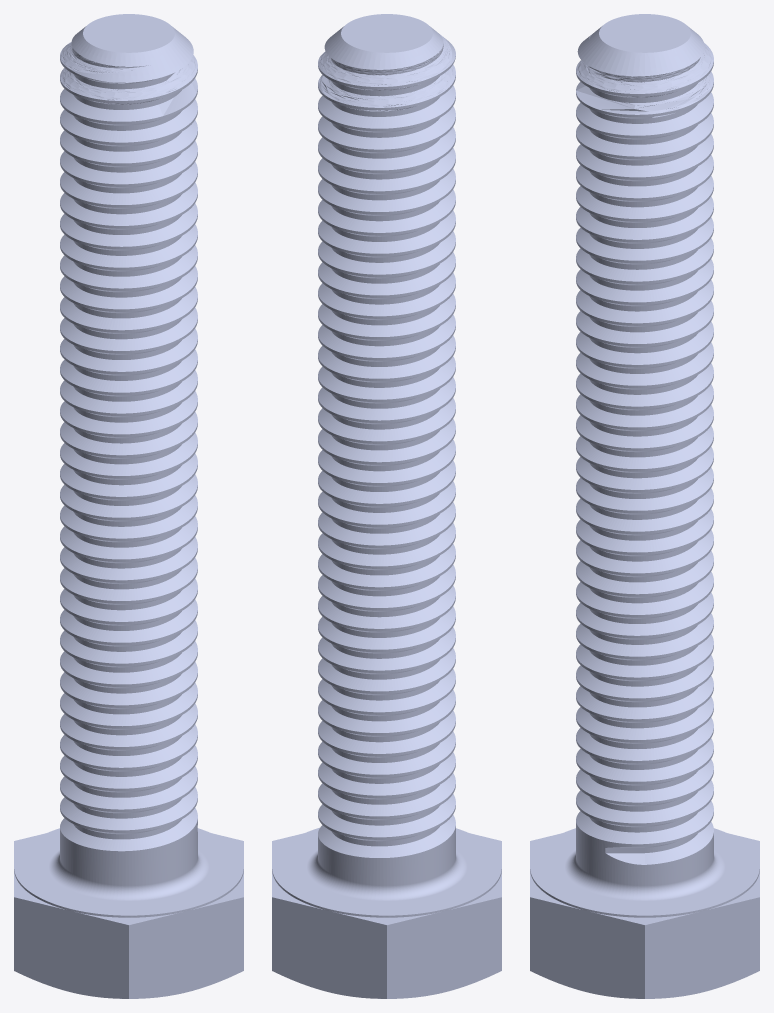
File: Bolt_M6x40_DIN933.dae
3 views of the same model, side by side, from view 1: azimuth 30°, elevation 25°; view 2: azimuth 150°, elevation 25°; view 3: azimuth 270°, elevation 25° (orthographic).
Visible parts, largest first — view 1: node_fa856b87_ad98_494f_9537_d9bb463fcd74_mesh0; view 2: node_fa856b87_ad98_494f_9537_d9bb463fcd74_mesh0; view 3: node_fa856b87_ad98_494f_9537_d9bb463fcd74_mesh0.
Part boxes in pixels (box(x1,y1,x2,y2)): node_fa856b87_ad98_494f_9537_d9bb463fcd74_mesh0: box(14, 14, 243, 998); node_fa856b87_ad98_494f_9537_d9bb463fcd74_mesh0: box(272, 14, 501, 998); node_fa856b87_ad98_494f_9537_d9bb463fcd74_mesh0: box(530, 14, 759, 998).
Size of the model in its own units: 11.55 by 10 by 44.
